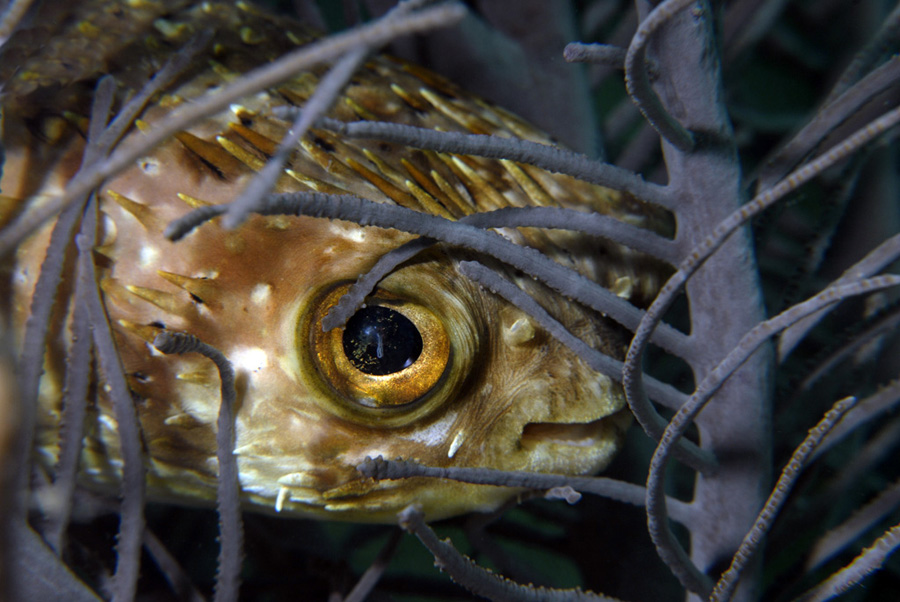Diodon_holocanthus: (1, 2, 650, 528)
